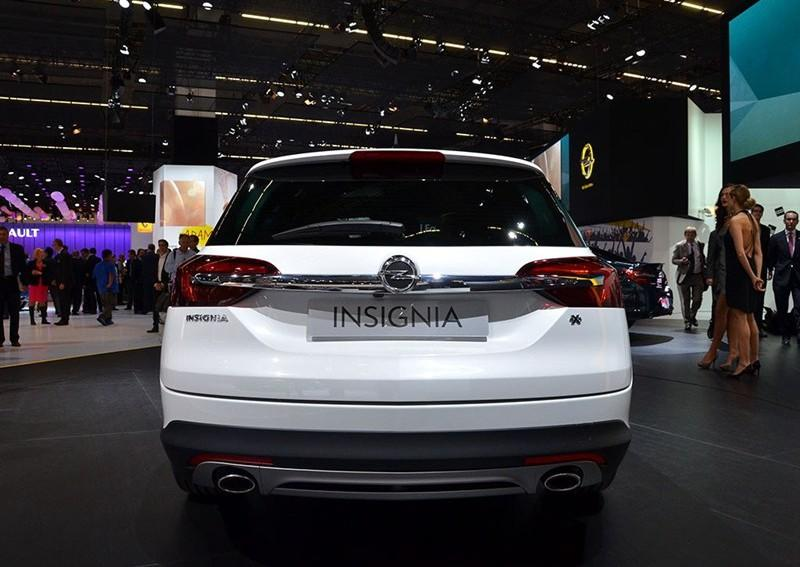Wagon: (159, 149, 633, 504)
